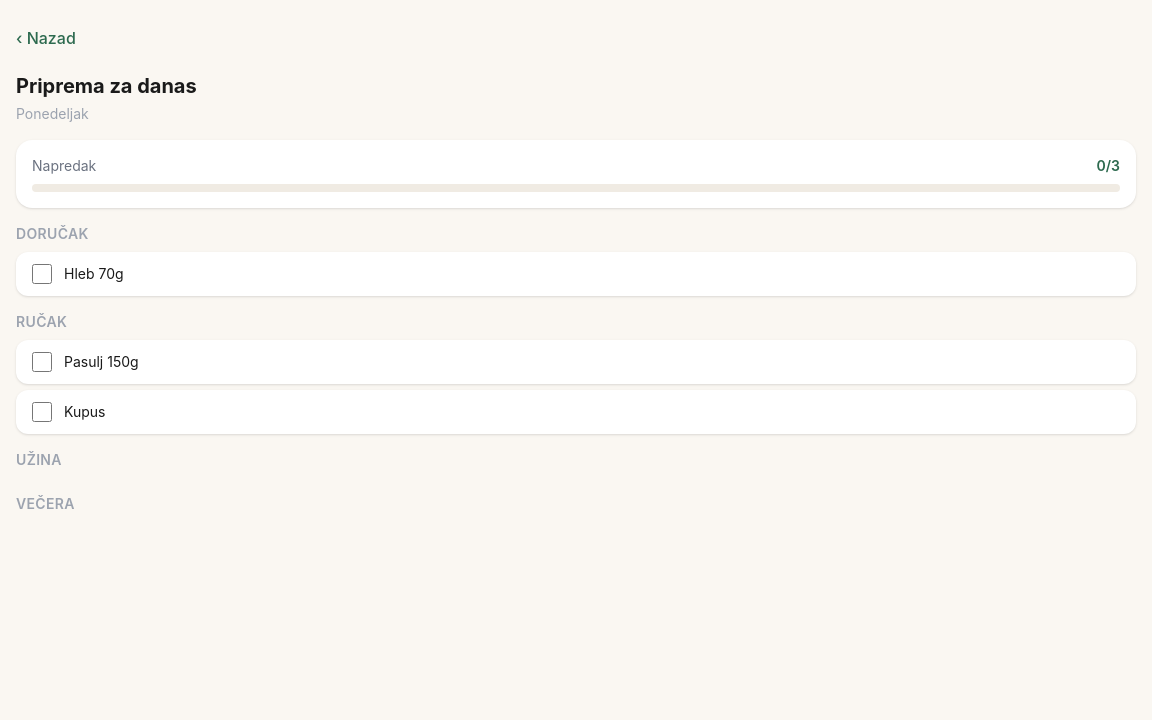
Test: PrepChecklistComponent › should update progress when checking items
Click the checkbox labelled "Hleb 70g".
click(42, 274)  # box [32,264,52,284]
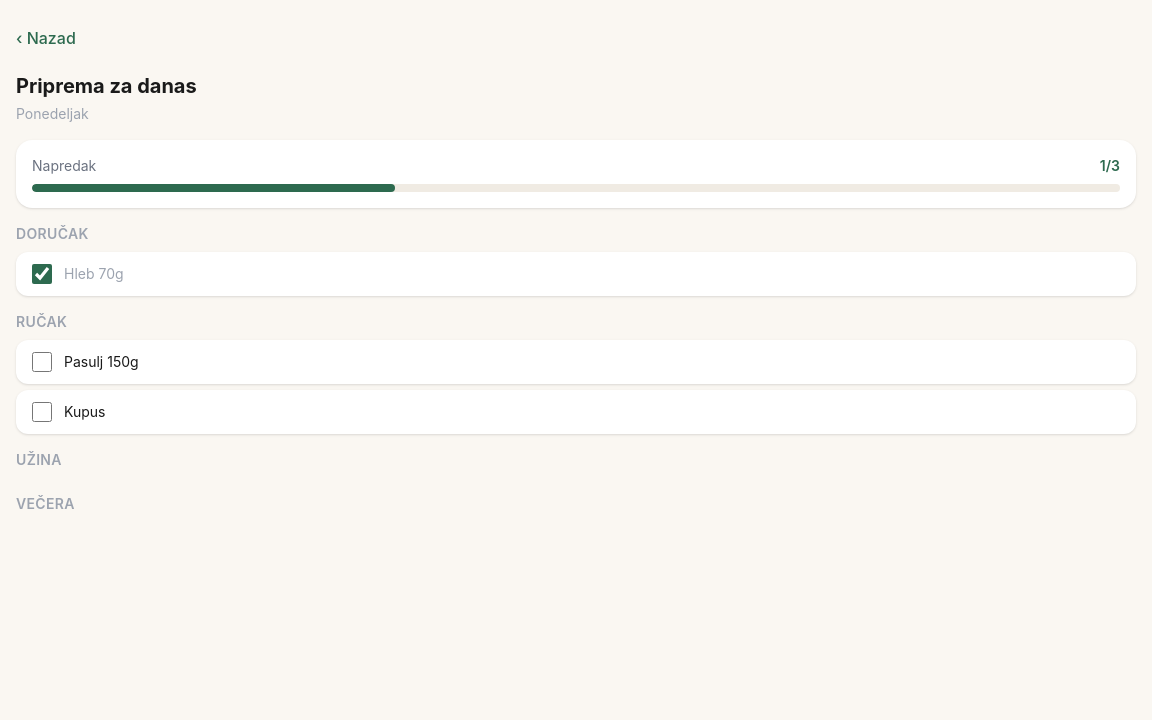
Result: the text "1/3" is shown at [1100,156,1120,176]
